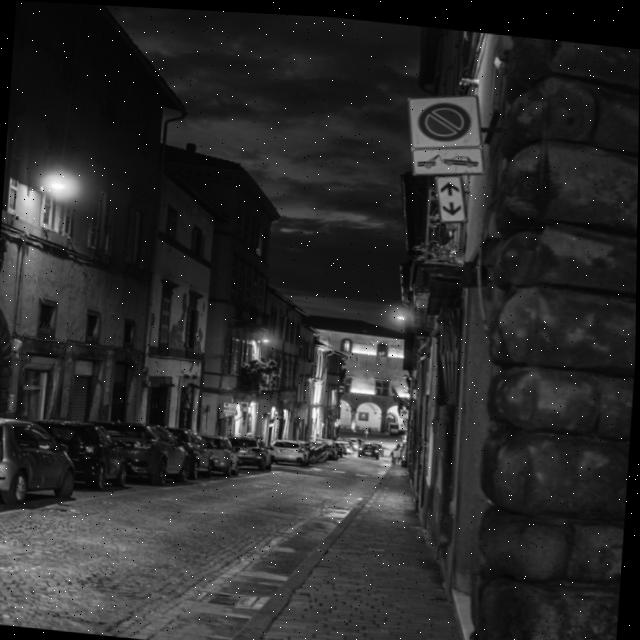building: (376, 24, 640, 640), (0, 0, 336, 454), (295, 311, 416, 438)
